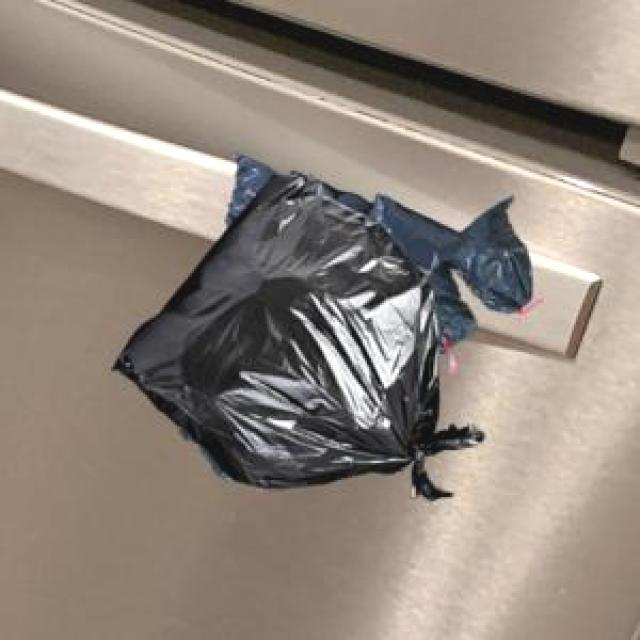Trashbag: (116, 177, 451, 498), (443, 196, 544, 322)
